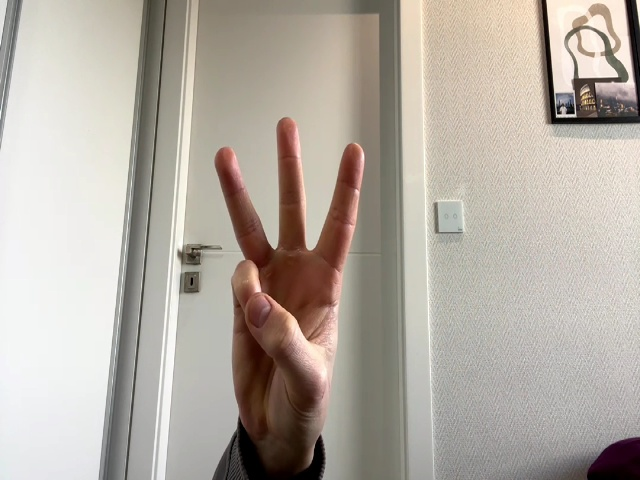W: (215, 117, 364, 434)
